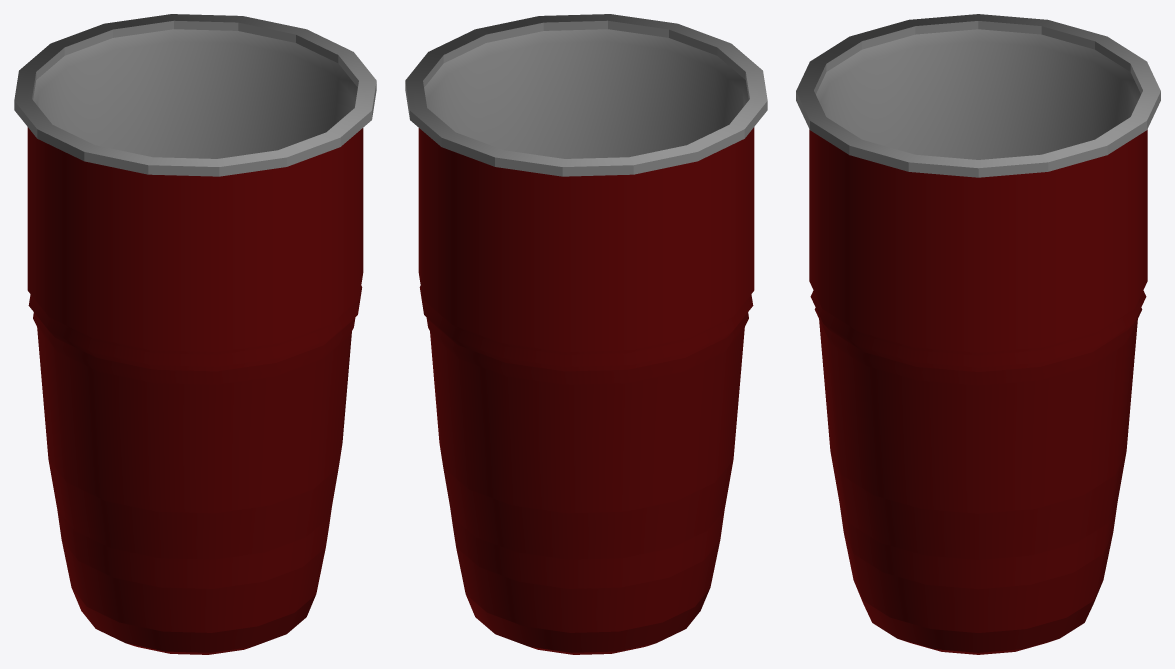
The model's file is CupV2.fbx.
The picture shows the model from 3 angles, left to right: view 1: azimuth 30°, elevation 25°; view 2: azimuth 150°, elevation 25°; view 3: azimuth 270°, elevation 25°; orthographic projection.
Visible parts, largest first — view 1: Line001; view 2: Line001; view 3: Line001.
Part boxes in pixels (x1,y1,x2,y2): Line001: (14,14,376,654); Line001: (405,14,767,654); Line001: (796,14,1160,654).
Bounding box in the file's own units: 78.89 × 126 × 78.89.
